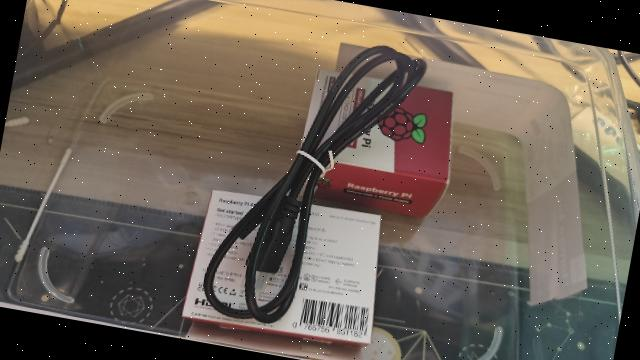charger_box: (287, 63, 472, 222)
hdmi_cable: (192, 2, 434, 346)
rpi_box: (178, 183, 397, 358)
